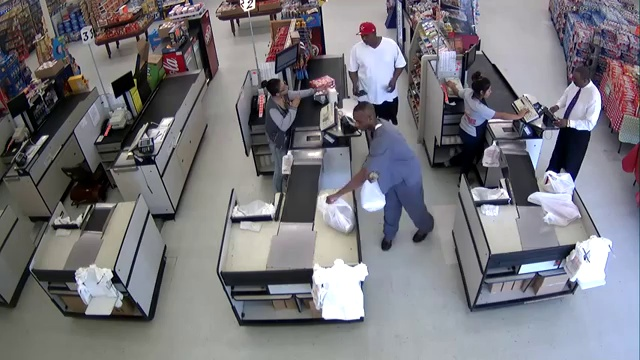face: (354, 109, 373, 131), (572, 71, 585, 88), (360, 27, 373, 44), (274, 85, 289, 97)
